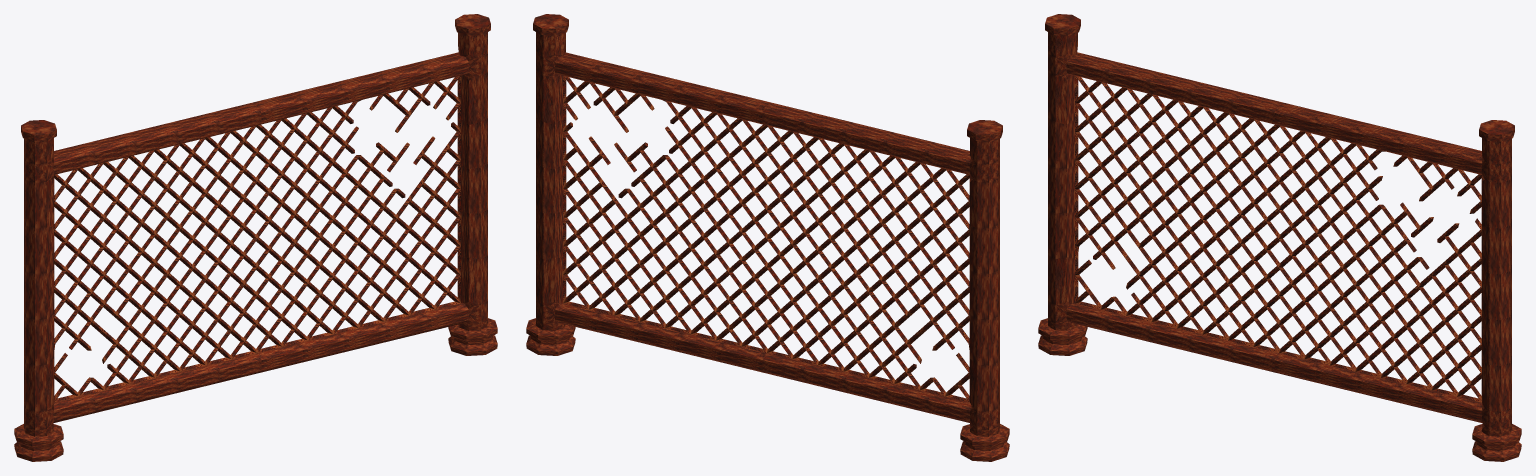
Rendered from ironwall02.fbx.
The picture shows the model from 3 angles, left to right: view 1: azimuth 30°, elevation 25°; view 2: azimuth 150°, elevation 25°; view 3: azimuth 330°, elevation 25°; orthographic projection.
Visible parts, largest first — view 1: surface, fence; view 2: surface, fence; view 3: surface, fence.
Part boxes in pixels (x1=…): surface: x1=52, y1=76, x2=460, y2=402; fence: x1=14, y1=14, x2=497, y2=461; surface: x1=563, y1=76, x2=969, y2=402; fence: x1=526, y1=14, x2=1009, y2=461; surface: x1=1075, y1=76, x2=1483, y2=402; fence: x1=1038, y1=14, x2=1521, y2=461.
Bounding box in the file's own units: 551 × 357 × 51.25.
